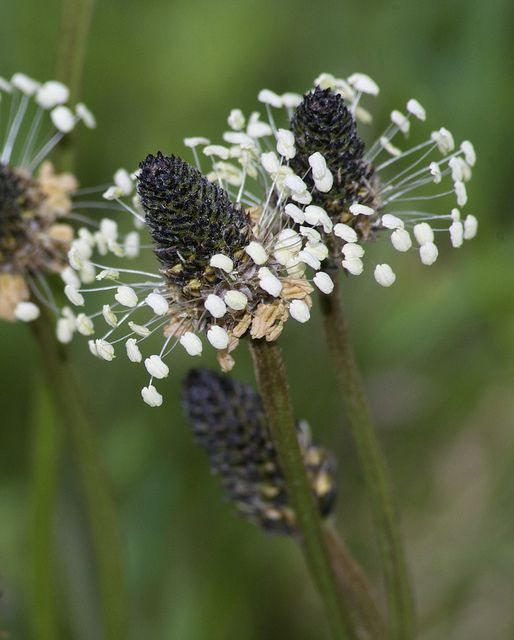buckhorn plantain: (253, 70, 483, 567), (121, 135, 319, 505)
